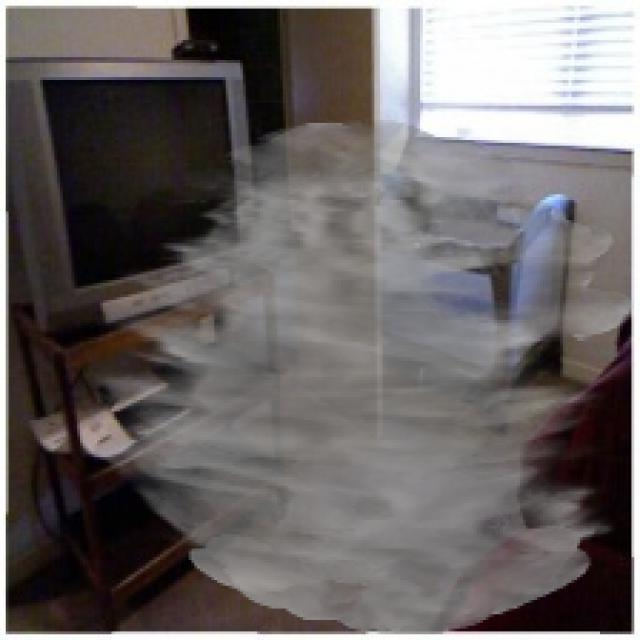Smoke: (88, 120, 634, 634)
